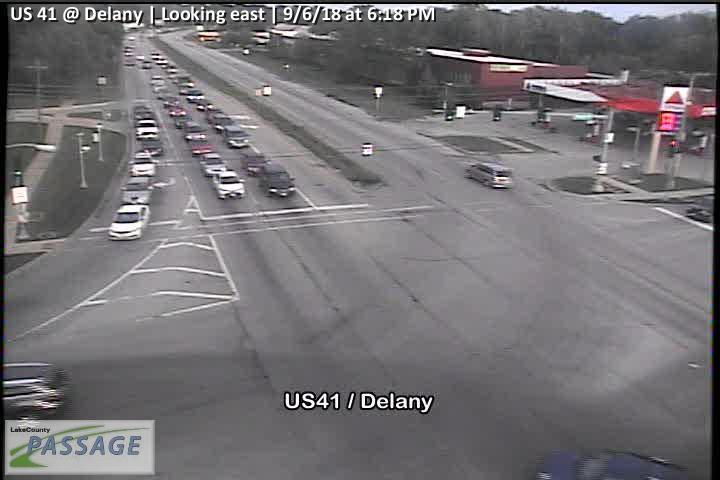SUV: (2, 360, 74, 420), (464, 160, 514, 190), (257, 162, 296, 200), (119, 176, 154, 203), (222, 124, 250, 149), (135, 119, 160, 140), (184, 120, 206, 143), (209, 112, 231, 130), (162, 92, 184, 105)
Sedan: (533, 447, 689, 480), (106, 203, 152, 240), (211, 171, 245, 199), (683, 195, 712, 224), (130, 151, 158, 176), (200, 154, 228, 177), (140, 140, 162, 155), (192, 141, 212, 156), (134, 105, 155, 118), (194, 96, 212, 110), (185, 89, 204, 102), (173, 116, 192, 128), (168, 107, 186, 116)
